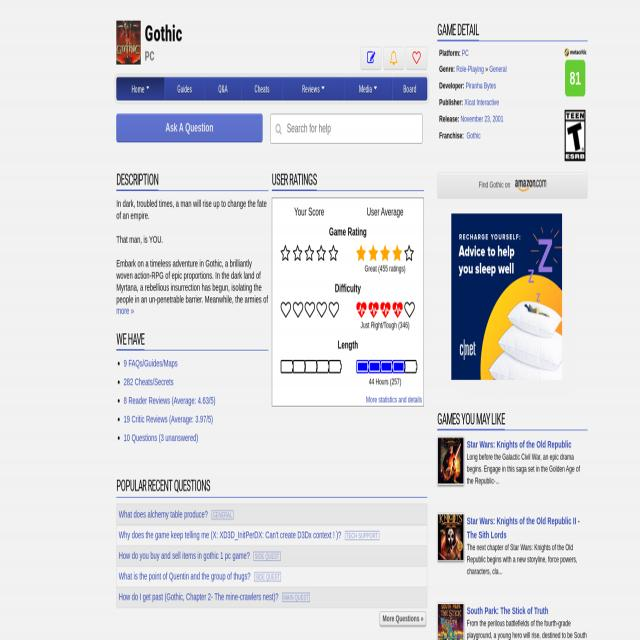button: (273, 199, 424, 408), (451, 212, 563, 382), (110, 5, 186, 70), (116, 114, 262, 143), (438, 172, 588, 200), (282, 77, 344, 101), (438, 437, 464, 485), (438, 513, 464, 561), (116, 77, 165, 101), (344, 77, 392, 101), (164, 77, 204, 101), (242, 77, 282, 101), (438, 603, 463, 640), (204, 77, 242, 101), (392, 77, 427, 101), (360, 46, 382, 70), (406, 46, 427, 70), (384, 46, 404, 70), (273, 122, 283, 136)
field: (270, 114, 422, 144)
